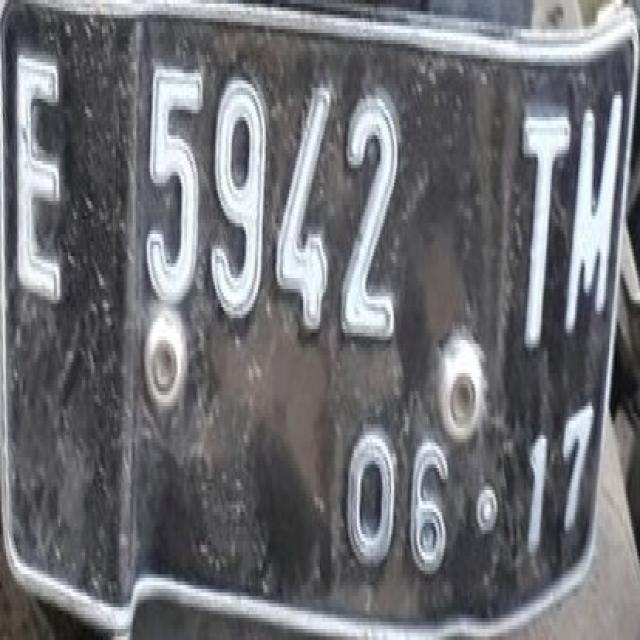plate: (0, 0, 634, 633)
